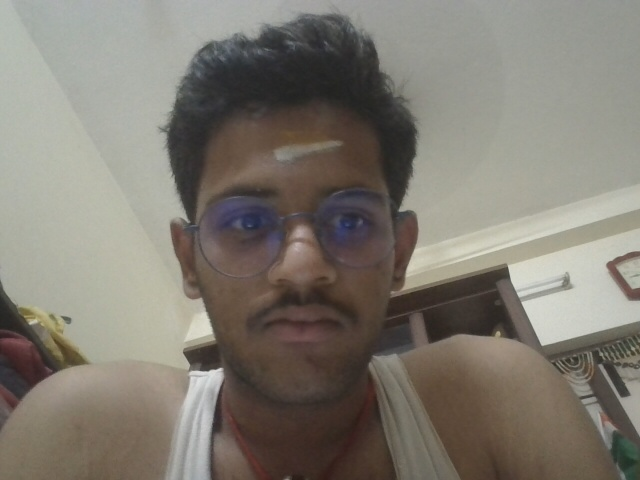real: (170, 120, 428, 378)
